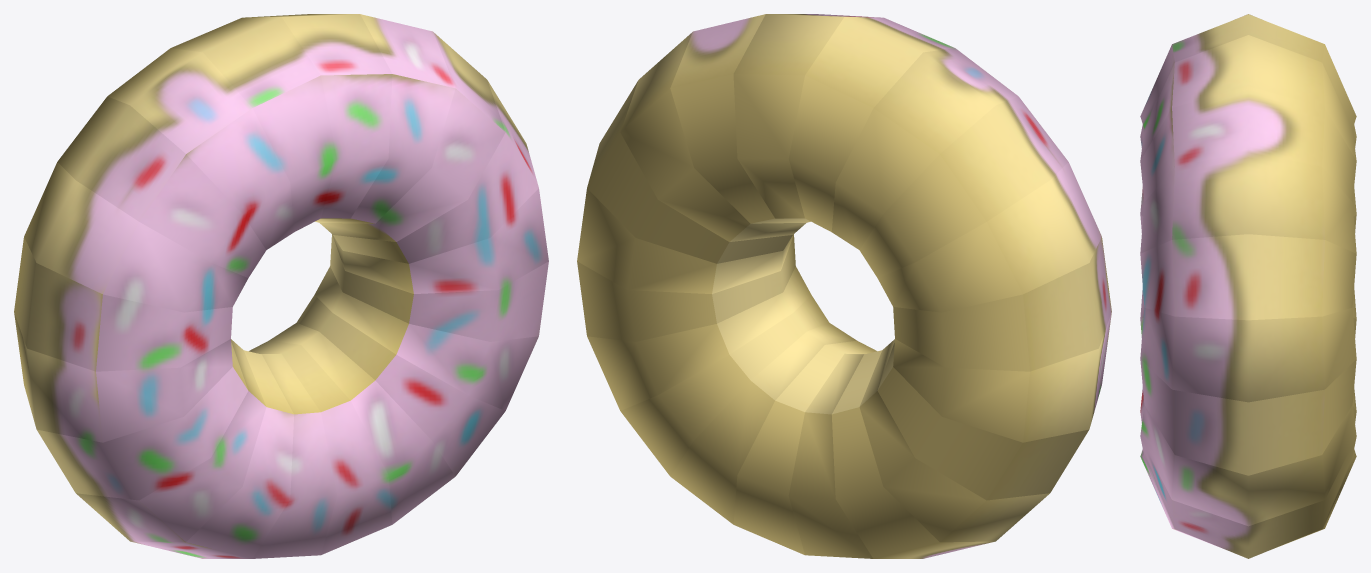
Rendered from donut.FBX.
3 views of the same model, side by side, from view 1: azimuth 30°, elevation 25°; view 2: azimuth 150°, elevation 25°; view 3: azimuth 270°, elevation 25° (orthographic). The views are drawn at different scales.
Parts seen in each view (by area): view 1: Torus001; view 2: Torus001; view 3: Torus001.
Boxes of the visible parts, x1,y1,x2,y2 form: Torus001: (14,14,548,558); Torus001: (577,14,1111,558); Torus001: (1140,14,1356,558).
Size of the model in its own units: 28.61 by 28.96 by 11.28.
